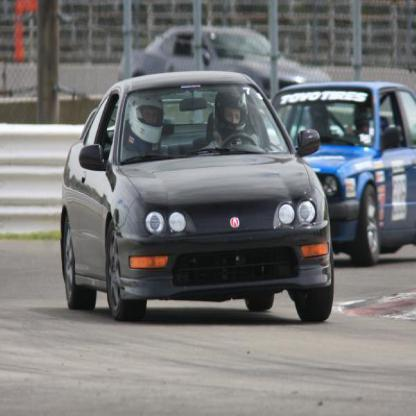Vehicle: (62, 71, 335, 323)
